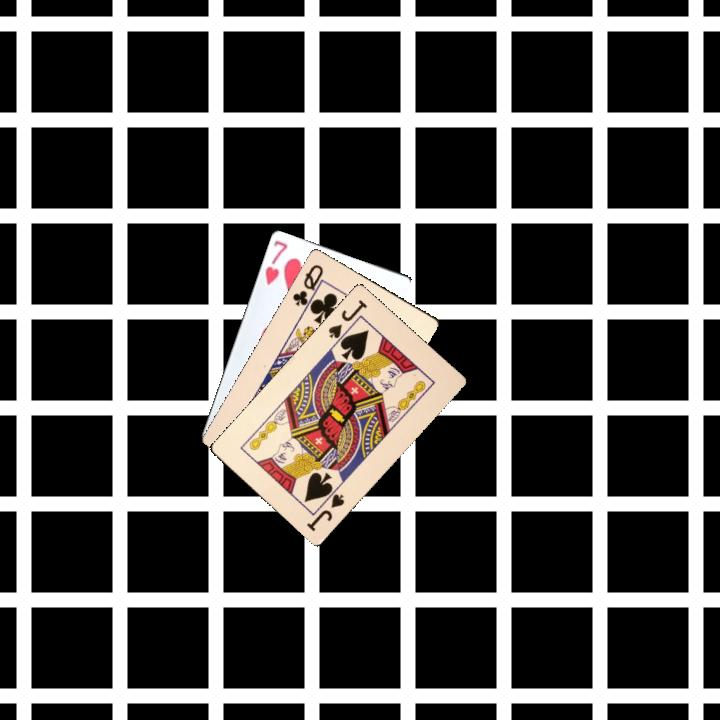7h: (261, 237, 290, 288)
Js: (302, 482, 347, 534), (324, 295, 370, 345)
Qc: (289, 260, 327, 313)
